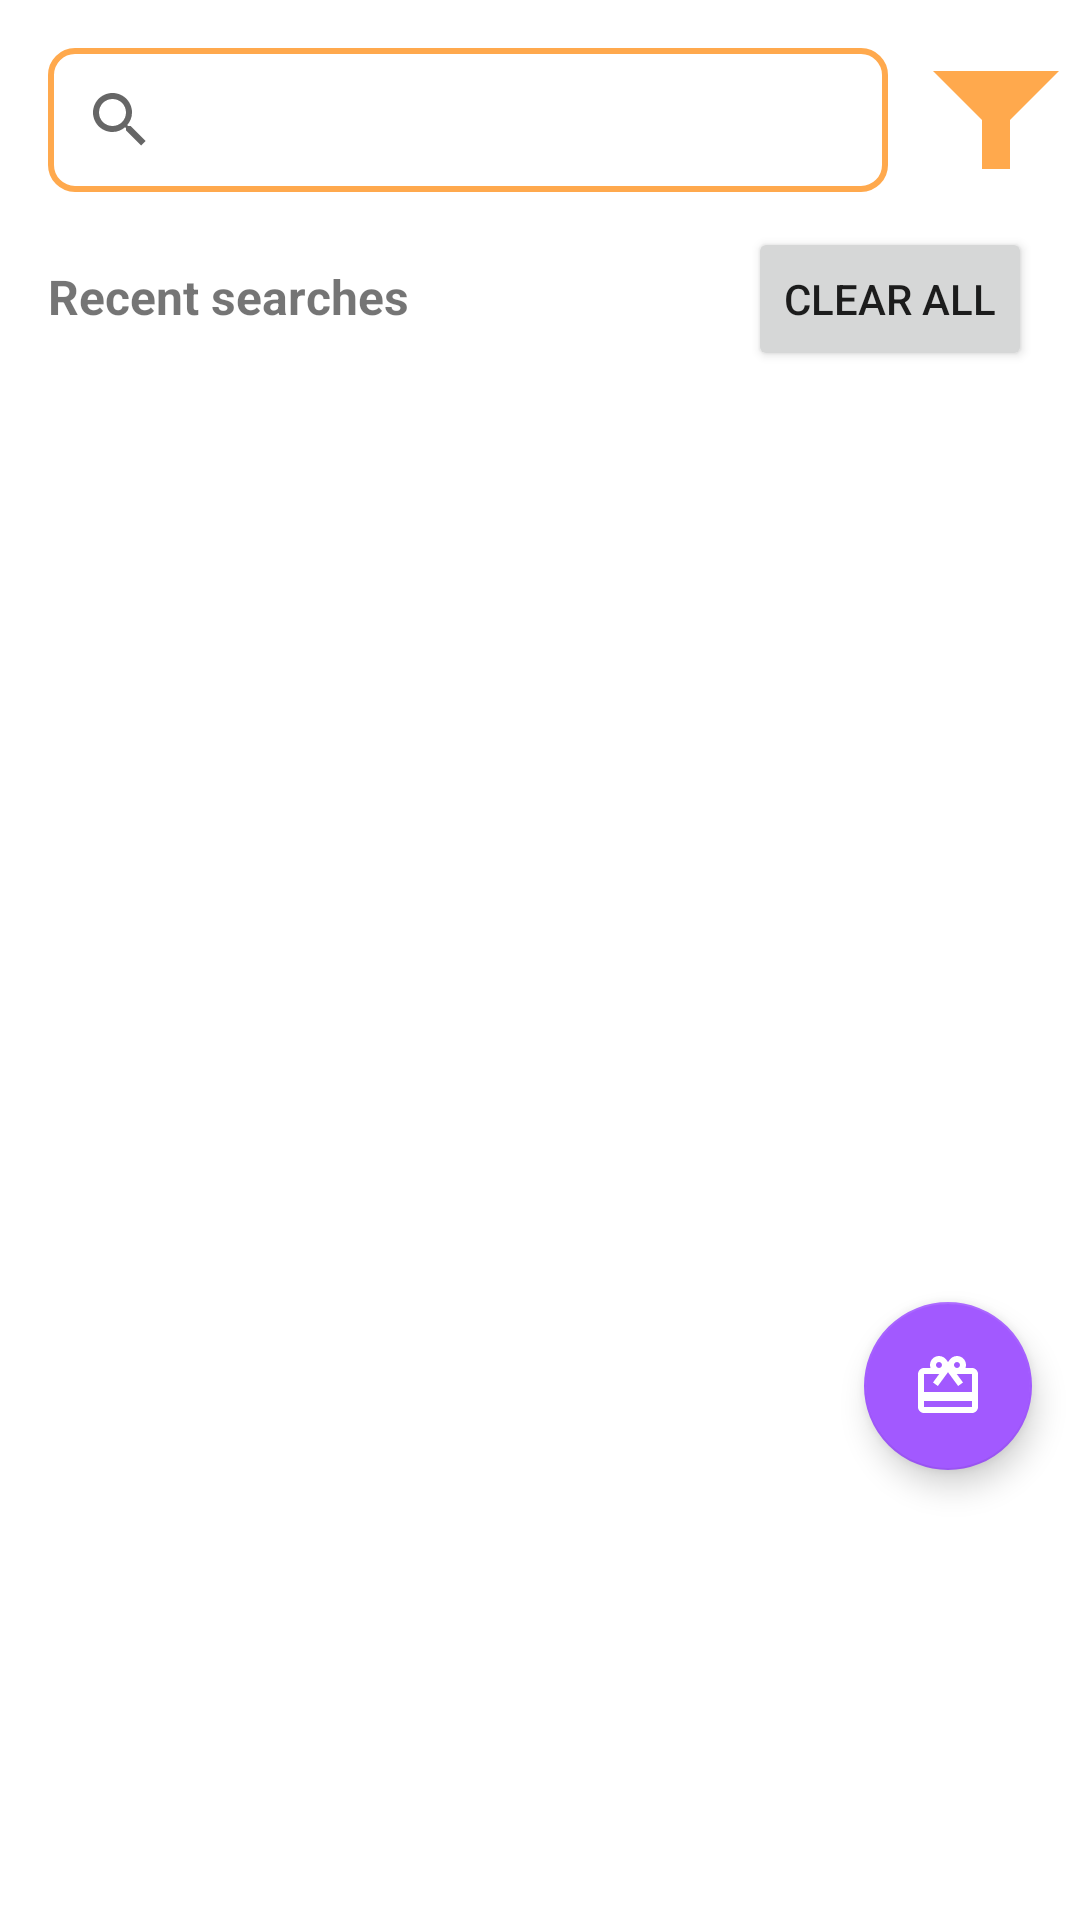

Icon click points for this 1080x1920 phone screenshot, format (x,y):
Filter: (996,120)
